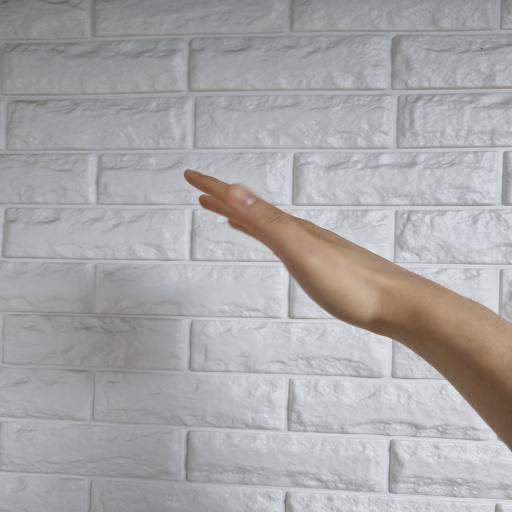Paper: (184, 169, 444, 351)
